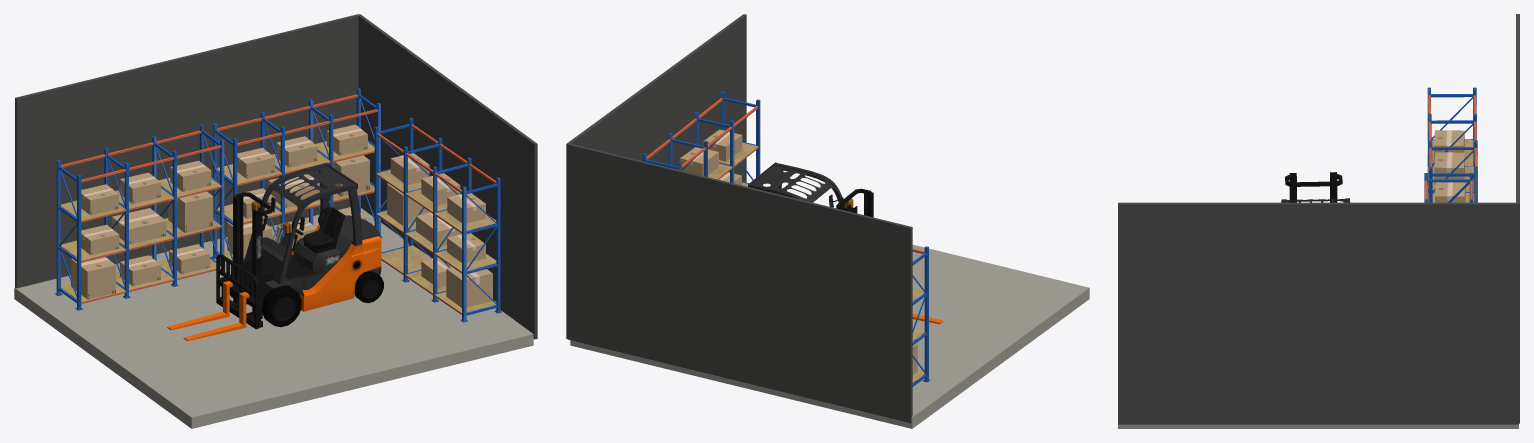
The model's file is tecnologiaLogistica.glb.
3 views of the same model, side by side, from view 1: azimuth 30°, elevation 25°; view 2: azimuth 150°, elevation 25°; view 3: azimuth 270°, elevation 25° (orthographic). The views are drawn at different scales.
Visible parts, largest first — view 1: Cube, Cube.001, Cube.002, forklift_truck_0, Storage_Rack_Solid Glass_0.001, Storage_Rack_Solid Glass_0.002, Storage_Rack_Solid Glass_0, CardboardBox_LP_lambert1_0.016, CardboardBox_LP_lambert1_0.013, CardboardBox_LP_lambert1_0.024, CardboardBox_LP_lambert1_0.017, CardboardBox_LP_lambert1_0.014 (+18 smaller); view 2: Cube.001, Cube, Cube.002, Storage_Rack_Solid Glass_0.002, forklift_truck_0, Storage_Rack_Solid Glass_0.001, CardboardBox_LP_lambert1_0.023, CardboardBox_LP_lambert1_0.022; view 3: Cube.002, Storage_Rack_Solid Glass_0.001, Cube, Cube.001, forklift_truck_0, CardboardBox_LP_lambert1_0.015, CardboardBox_LP_lambert1_0.011, CardboardBox_LP_lambert1_0.014, Storage_Rack_Solid Glass_0.
Boxes of the visible parts, x1,y1,x2,y2 form: Cube: (14,207,533,428); Cube.001: (15,14,358,288); Cube.002: (358,14,537,339); forklift_truck_0: (167,163,383,341); Storage_Rack_Solid Glass_0.001: (55,124,224,310); Storage_Rack_Solid Glass_0.002: (374,117,501,322); Storage_Rack_Solid Glass_0: (211,88,382,264); CardboardBox_LP_lambert1_0.016: (71,257,115,299); CardboardBox_LP_lambert1_0.013: (168,191,213,232); CardboardBox_LP_lambert1_0.024: (446,266,492,307); CardboardBox_LP_lambert1_0.017: (112,208,166,244); CardboardBox_LP_lambert1_0.014: (81,184,118,215); Cube.001: (568,143,912,423); Cube: (570,244,1089,428); Cube.002: (566,14,746,338); Storage_Rack_Solid Glass_0.002: (642,91,760,186); forklift_truck_0: (748,162,943,334); Storage_Rack_Solid Glass_0.001: (912,246,930,386); CardboardBox_LP_lambert1_0.023: (680,147,718,175); CardboardBox_LP_lambert1_0.022: (703,129,742,161); Cube.002: (1118,202,1518,424); Storage_Rack_Solid Glass_0.001: (1427,87,1477,202); Cube: (1118,424,1518,428); Cube.001: (1516,14,1519,423); forklift_truck_0: (1281,172,1350,202); CardboardBox_LP_lambert1_0.015: (1434,152,1464,184); CardboardBox_LP_lambert1_0.011: (1435,182,1465,202); CardboardBox_LP_lambert1_0.014: (1434,130,1464,162); Storage_Rack_Solid Glass_0: (1424,173,1473,202).
Size of the model in its own units: 13.96 by 7.74 by 12.43.
33 materials, 30 textured.
